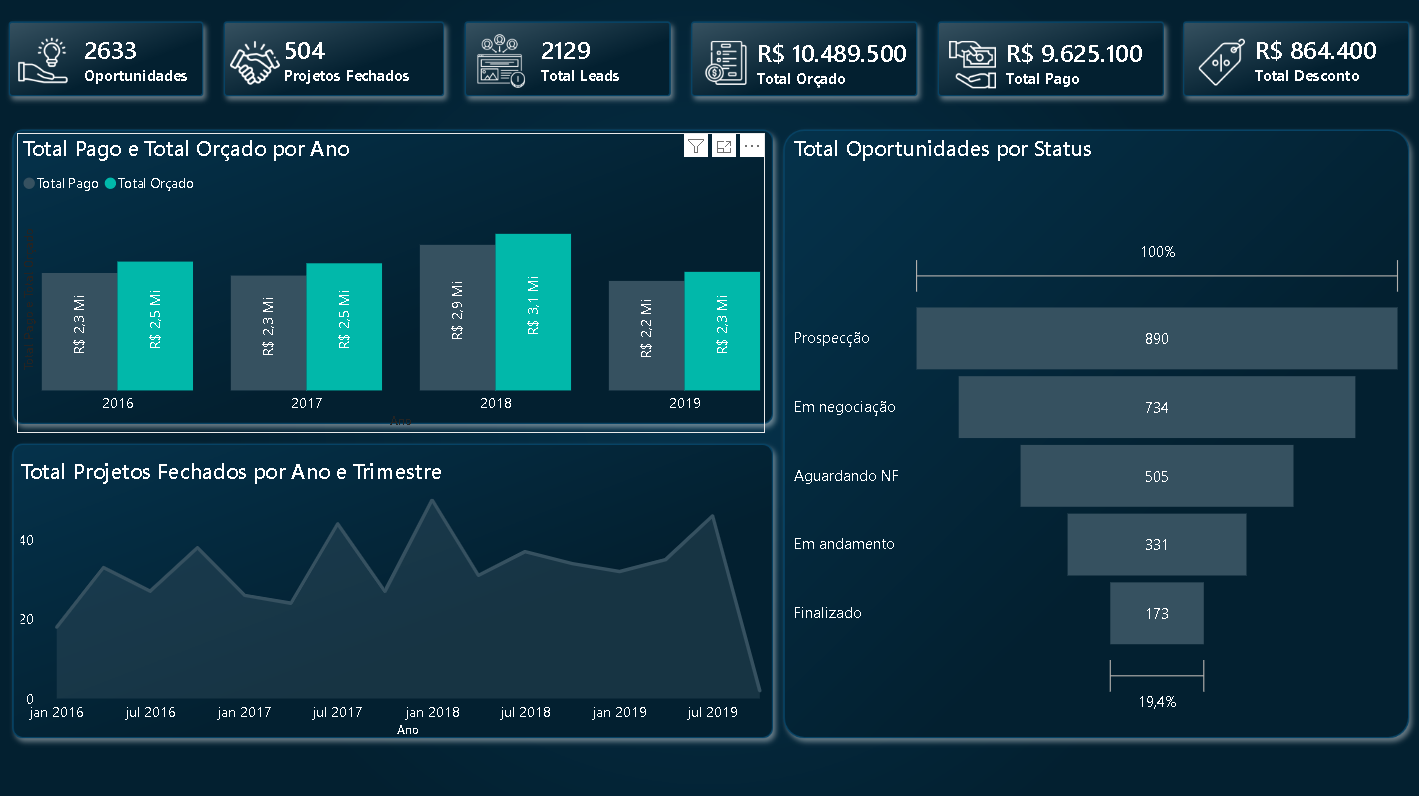

What the dashboard file says about the page in this screenshot:
{"tool":"powerbi","page":{"name":"Relatório Projetos","canvas":[1280,720],"ordinal":1},"visuals":[{"type":"multiRowCard","fields":{"Values":["Projetos.Total Leads"]},"box":[485.6,28.5,127.7,69],"z":0},{"type":"multiRowCard","fields":{"Values":["Projetos.Total Projetos Fechados"]},"box":[257.9,28.5,135.4,60.4],"z":1000},{"type":"multiRowCard","fields":{"Values":["Projetos.Total Oportunidades"]},"box":[81.1,28.5,125.9,60.4],"z":2000},{"type":"multiRowCard","fields":{"Values":["Projetos.Total Orçado"]},"box":[677.1,31.1,189.8,75.9],"z":3000},{"type":"multiRowCard","fields":{"Values":["Projetos.Total Pago"]},"box":[897.9,31.1,175.1,69.9],"z":4000},{"type":"multiRowCard","fields":{"Values":["Projetos.Total Desconto"]},"box":[1118.7,28.5,154.4,69.9],"z":5000},{"type":"areaChart","fields":{"Y":["Projetos.Total Projetos Fechados"],"Category":["Projetos.Data Início.Variation.Hierarquia de datas.Ano","Projetos.Data Início.Variation.Hierarquia de datas.Trimestre"]},"box":[25.1,409.6,685.4,253.1],"z":6000},{"type":"funnel","fields":{"Y":["Projetos.Total Oportunidades"],"Category":["Projetos.Status"]},"box":[710.4,123,550.4,581.5],"z":7000},{"type":"clusteredColumnChart","fields":{"Category":["Projetos.Data Início.Variation.Hierarquia de datas.Ano"],"Y":["Projetos.Total Pago","Projetos.Total Orçado"]},"box":[26.3,123,663.9,266.3],"z":8000}]}

Visuals, with their boxes in screenshot pixels (x1, y1, x2, y2), scaled from the page's 1280x720 canvas onto the 1419x796 screenshot:
multiRowCard - Projetos.Total Leads: rect(538, 32, 680, 108)
multiRowCard - Projetos.Total Projetos Fechados: rect(286, 32, 436, 98)
multiRowCard - Projetos.Total Oportunidades: rect(90, 32, 229, 98)
multiRowCard - Projetos.Total Orçado: rect(751, 34, 961, 118)
multiRowCard - Projetos.Total Pago: rect(995, 34, 1190, 112)
multiRowCard - Projetos.Total Desconto: rect(1240, 32, 1411, 109)
areaChart - Projetos.Total Projetos Fechados x Projetos.Data Início.Variation.Hierarquia de datas.Ano: rect(28, 453, 788, 733)
funnel - Projetos.Total Oportunidades x Projetos.Status: rect(788, 136, 1398, 779)
clusteredColumnChart - Projetos.Data Início.Variation.Hierarquia de datas.Ano x Projetos.Total Pago: rect(29, 136, 765, 430)
